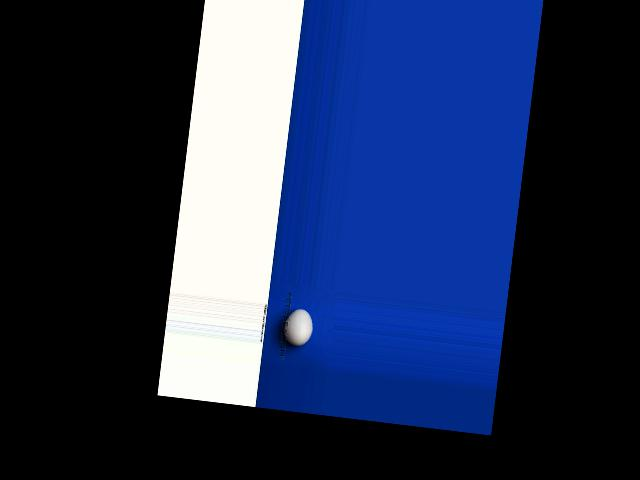egg: (281, 307, 314, 347)
